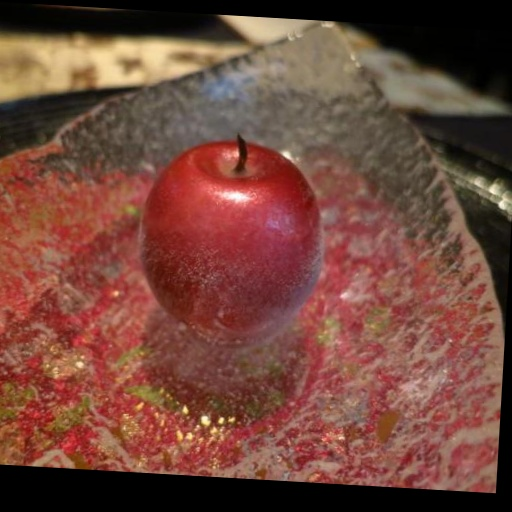fruit: (141, 138, 323, 343)
